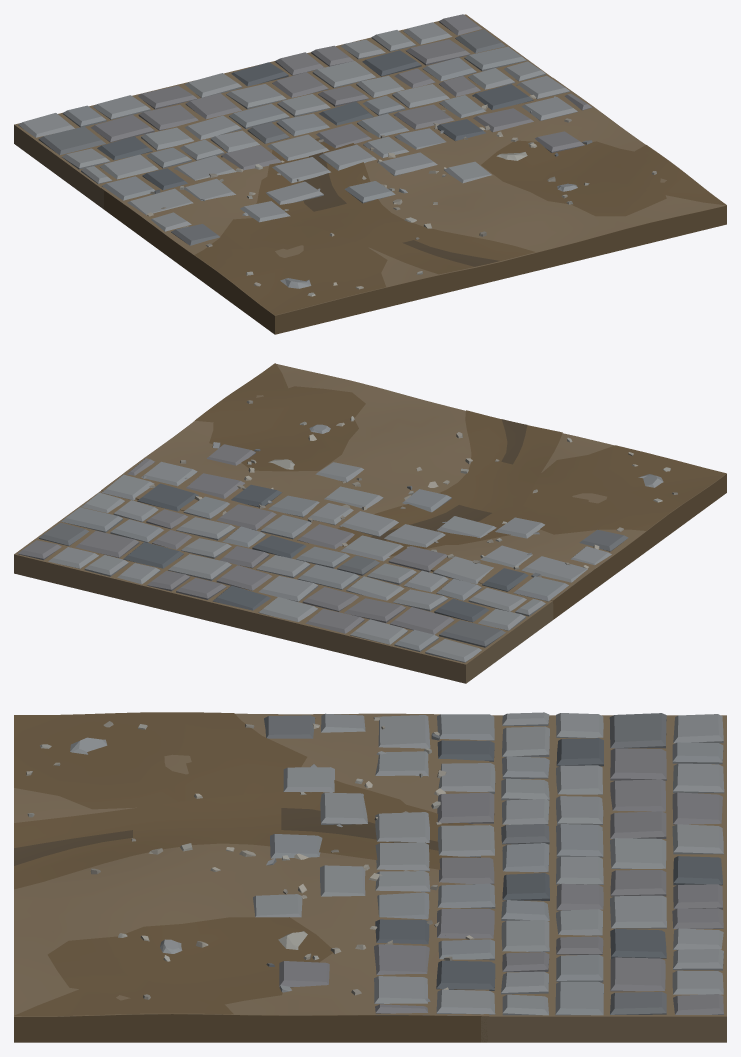
The model's file is SM_LPD_Floor_PavingJoinCobbleDirt_01.fbx.
The picture shows the model from 3 angles, top to bottom: view 1: azimuth 30°, elevation 25°; view 2: azimuth 150°, elevation 25°; view 3: azimuth 270°, elevation 25°; orthographic projection. The views are drawn at different scales.
Parts seen in each view (by area): view 1: SM_LPD_Floor_PavingJoinCobbleDirt_01; view 2: SM_LPD_Floor_PavingJoinCobbleDirt_01; view 3: SM_LPD_Floor_PavingJoinCobbleDirt_01.
Boxes of the visible parts, bbox=[...] form: SM_LPD_Floor_PavingJoinCobbleDirt_01: bbox=[14, 14, 726, 334]; SM_LPD_Floor_PavingJoinCobbleDirt_01: bbox=[14, 363, 726, 683]; SM_LPD_Floor_PavingJoinCobbleDirt_01: bbox=[14, 712, 726, 1042].
Bounding box in the file's own units: 4 × 0.2 × 4.
